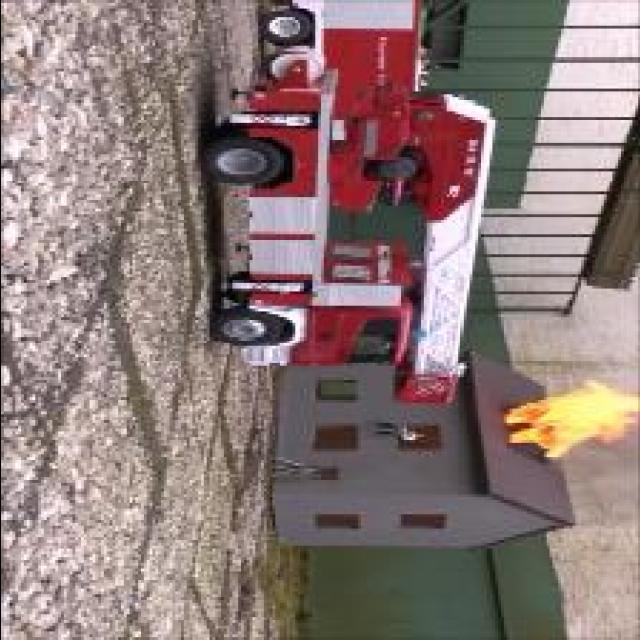Fire: (504, 377, 638, 460)
